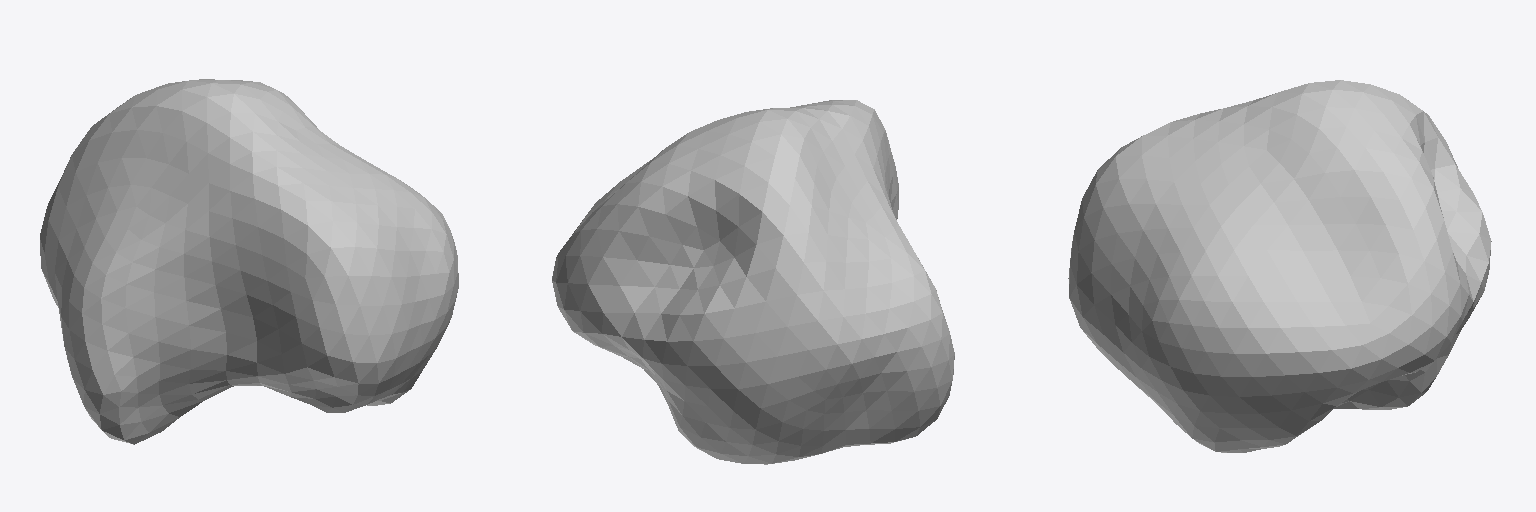
Rendered from Asteroid1.obj.
3 views of the same model, side by side, from view 1: azimuth 30°, elevation 25°; view 2: azimuth 150°, elevation 25°; view 3: azimuth 270°, elevation 25° (orthographic).
Visible parts, largest first — view 1: Icosphere; view 2: Icosphere; view 3: Icosphere.
Boxes of the visible parts, x1=… form: Icosphere: x1=40, y1=79, x2=458, y2=444; Icosphere: x1=552, y1=100, x2=954, y2=464; Icosphere: x1=1068, y1=80, x2=1491, y2=452.
Bounding box in the file's own units: 1.76 × 1.46 × 1.78.